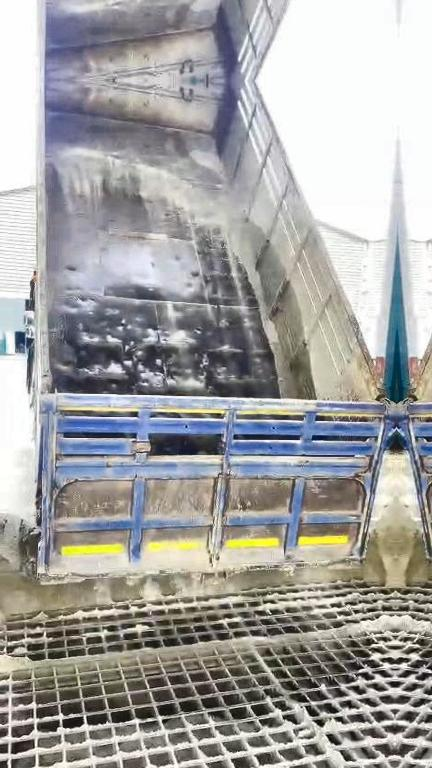sand: (53, 150, 271, 335), (0, 515, 395, 613), (0, 616, 395, 675), (286, 695, 356, 768), (271, 340, 297, 395), (191, 151, 217, 172)
